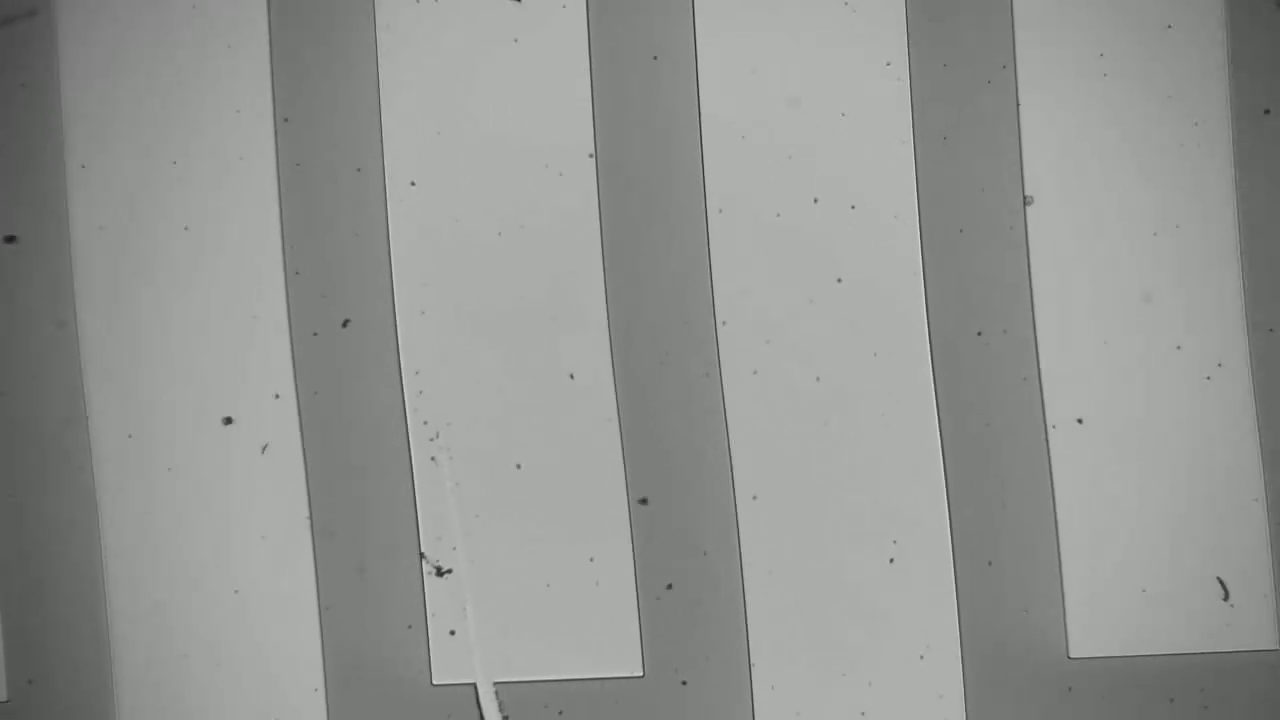Short_circuit: (451, 636, 525, 720)
